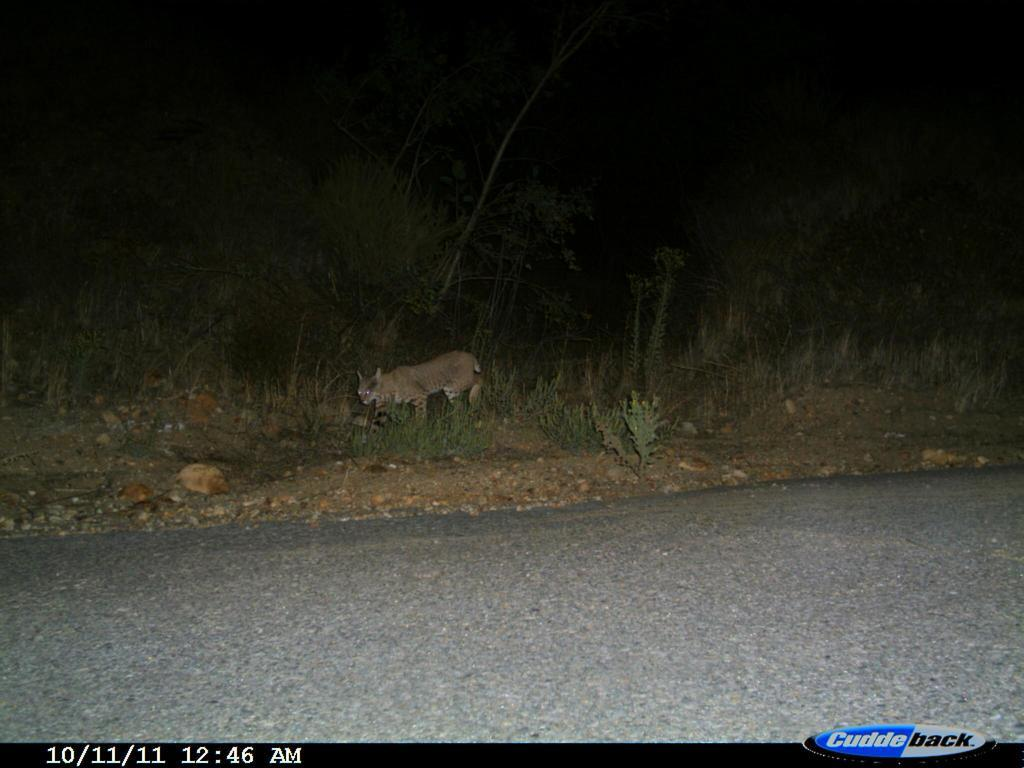bobcat: (356, 349, 491, 429)
